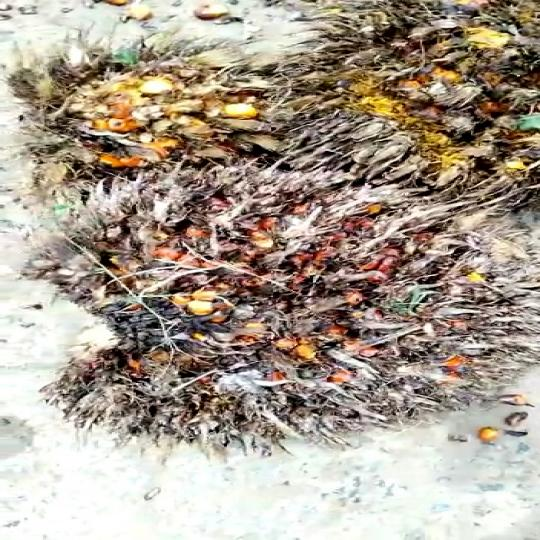terlalu masak: (24, 150, 540, 452)
